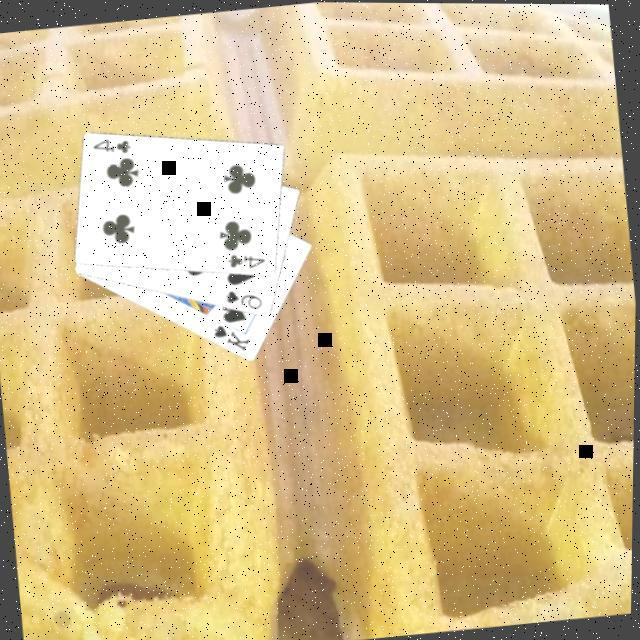4C: (90, 131, 136, 157), (226, 246, 270, 272)
9S: (222, 282, 266, 312)
KS: (210, 317, 254, 355)
